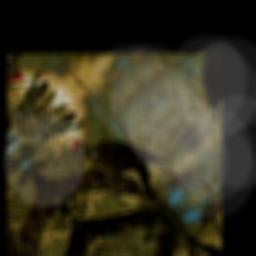Woodpecker: (59, 101, 173, 213)
